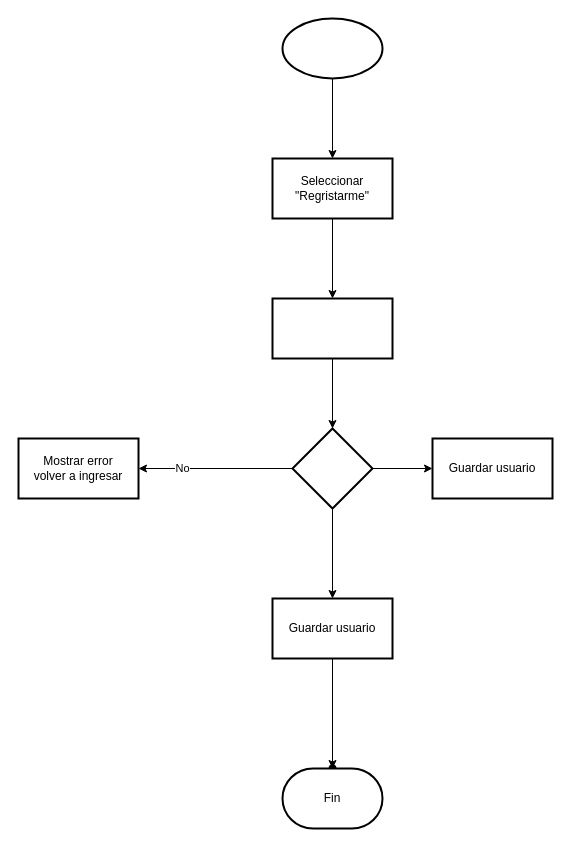
Some shapes in this 570 by 846 pixel diagram are drawn without their labels. The shapes that lost their labels are listed below. From the top down, each one's box as (x1, y1, x2, y2) in pixels, then its label:
(271, 297, 393, 359): Ingresar datos
(291, 427, 373, 509): Datos validos
